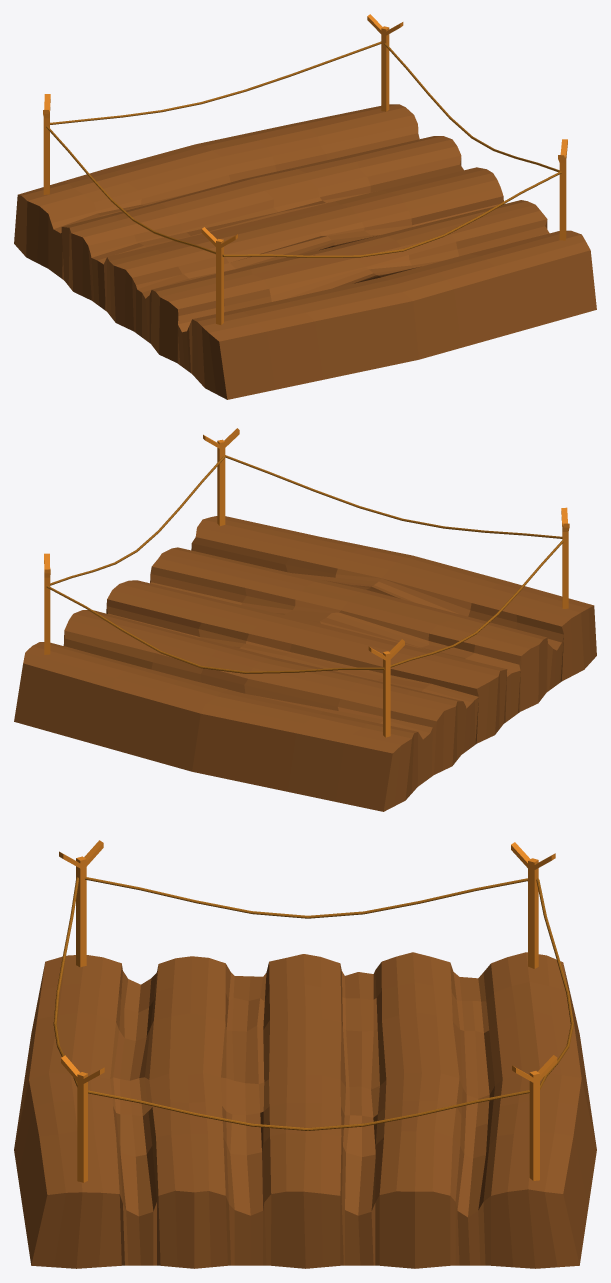
The model's file is field.fbx.
3 renders of one model, top to bottom at view 1: azimuth 30°, elevation 25°; view 2: azimuth 150°, elevation 25°; view 3: azimuth 270°, elevation 25°, orthographic. The views are drawn at different scales.
Parts seen in each view (by area): view 1: field, rope.004, rope.003, stick_wood_001.007, stick_wood_001.004, stick_wood_001.005, stick_wood_001.006, rope.001, rope.002; view 2: field, rope.003, rope.004, stick_wood_001.005, stick_wood_001.006, stick_wood_001.004, stick_wood_001.007, rope.001, rope.002; view 3: field, rope.002, rope.001, stick_wood_001.007, stick_wood_001.005, stick_wood_001.006, stick_wood_001.004, rope.003, rope.004.
Part boxes in pixels (x1,y1,x2,y2): field: [14, 104, 596, 399]; rope.004: [222, 171, 561, 257]; rope.003: [50, 41, 381, 124]; stick_wood_001.007: [367, 14, 403, 111]; stick_wood_001.004: [201, 227, 237, 324]; stick_wood_001.005: [558, 139, 567, 240]; stick_wood_001.006: [43, 94, 50, 194]; rope.001: [384, 43, 559, 172]; rope.002: [46, 126, 215, 254]; field: [14, 516, 596, 811]; rope.003: [46, 585, 384, 673]; rope.004: [225, 455, 562, 538]; stick_wood_001.005: [203, 428, 239, 525]; stick_wood_001.006: [368, 639, 404, 737]; stick_wood_001.004: [561, 507, 569, 608]; stick_wood_001.007: [44, 553, 50, 654]; rope.001: [50, 456, 224, 585]; rope.002: [390, 540, 563, 667]; field: [14, 952, 596, 1268]; rope.002: [84, 877, 527, 918]; rope.001: [88, 1090, 529, 1130]; stick_wood_001.007: [512, 1055, 557, 1180]; stick_wood_001.005: [61, 1055, 104, 1182]; stick_wood_001.006: [511, 842, 555, 968]; stick_wood_001.004: [59, 840, 103, 967]; rope.003: [536, 878, 573, 1089]; rope.004: [53, 877, 78, 1086].
Bounding box in the file's own units: 1122 × 425 × 1154.
